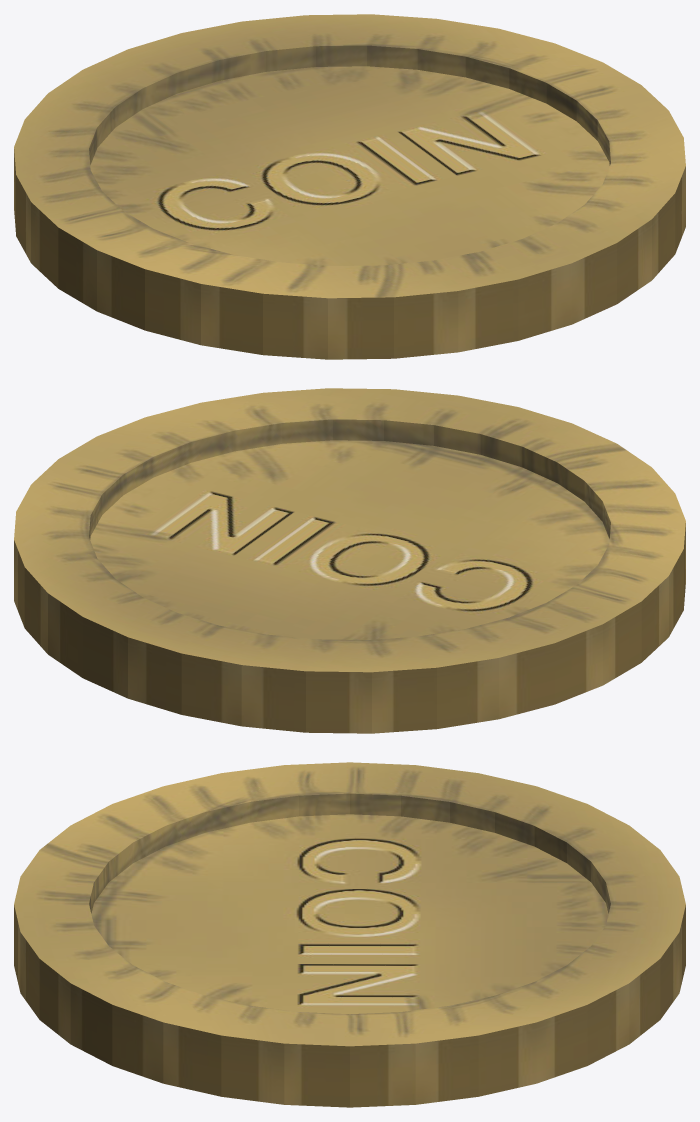
Rendered from coinUV.obj.
3 renders of one model, top to bottom at view 1: azimuth 30°, elevation 25°; view 2: azimuth 150°, elevation 25°; view 3: azimuth 270°, elevation 25°, orthographic.
Visible parts, largest first — view 1: Cylinder; view 2: Cylinder; view 3: Cylinder.
Part boxes in pixels (x1,y1,x2,y2): Cylinder: (14,14,685,359); Cylinder: (14,388,685,733); Cylinder: (14,762,685,1107).
Size of the model in its own units: 5.95 by 0.6029 by 5.95.
1 material, 1 textured.
